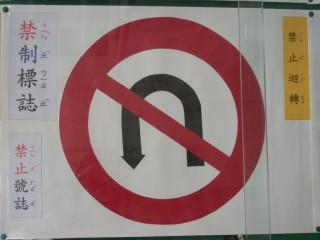no_u_turn: (58, 16, 265, 223)
